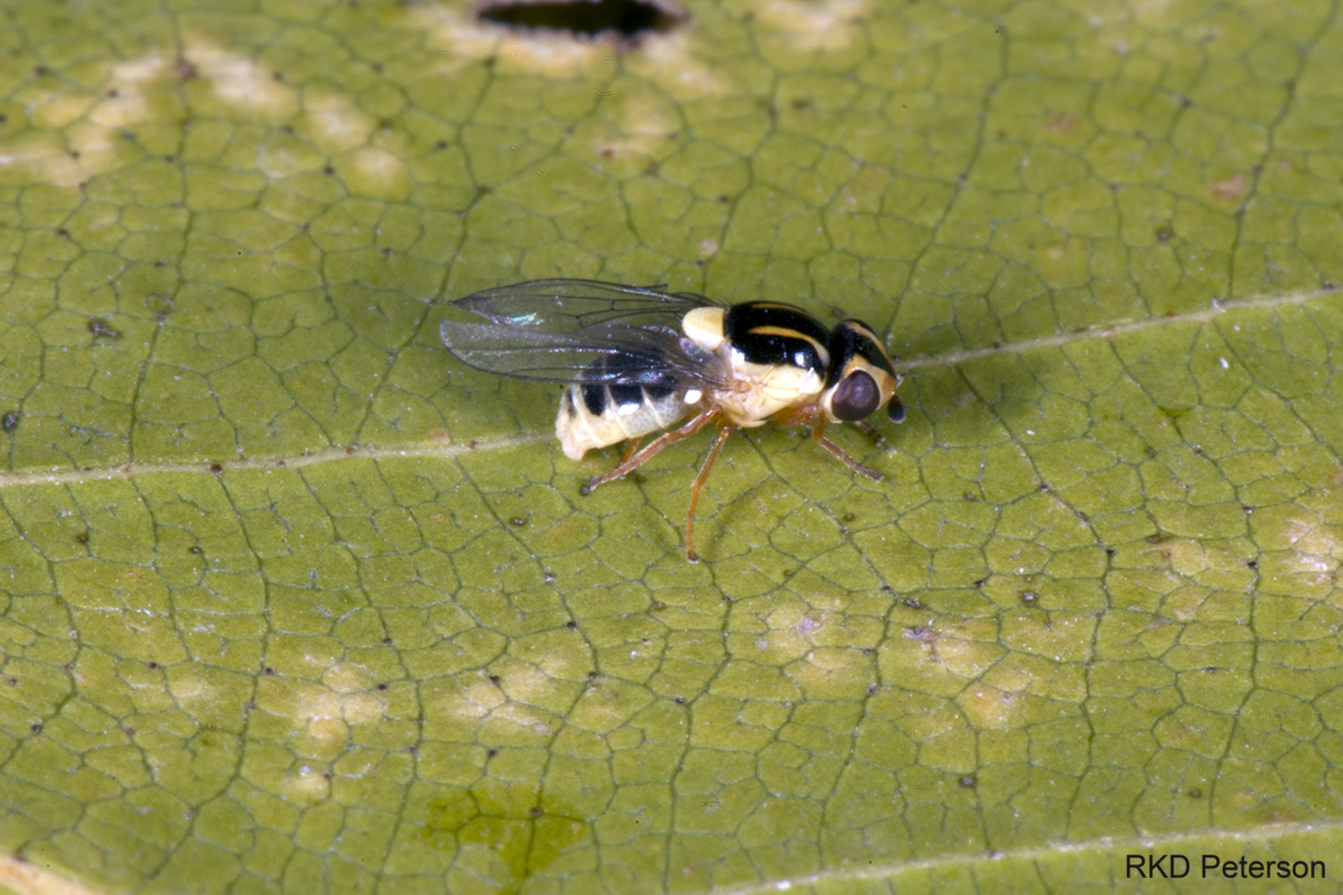Chloropidae: (439, 277, 911, 566)
